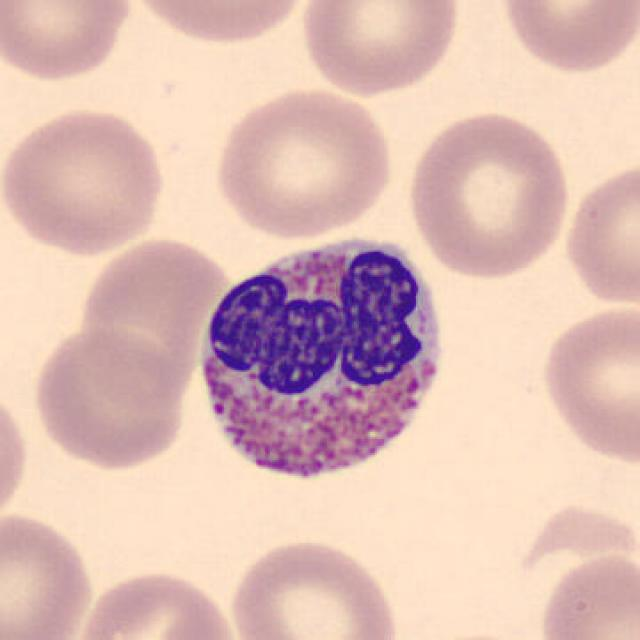Eosinophil: (188, 215, 462, 504)
RBC: (402, 106, 574, 282), (208, 83, 398, 241), (73, 233, 231, 409), (0, 102, 171, 259), (28, 322, 194, 472), (224, 534, 404, 640), (535, 298, 640, 467), (297, 0, 464, 99), (69, 564, 240, 640), (0, 508, 96, 640), (560, 157, 638, 310), (0, 0, 135, 85), (494, 0, 638, 78), (120, 0, 318, 49), (534, 548, 638, 640), (0, 379, 32, 531), (396, 627, 549, 640)
